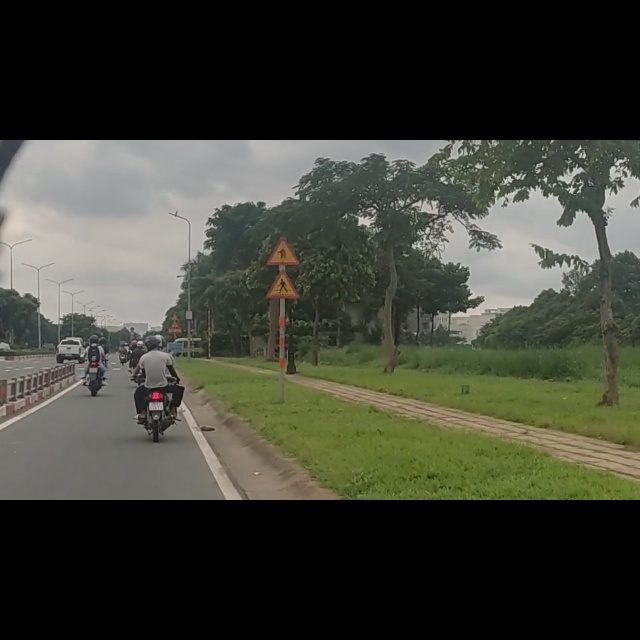bien_nguy_hiem: (267, 172, 300, 222), (266, 231, 299, 281)
